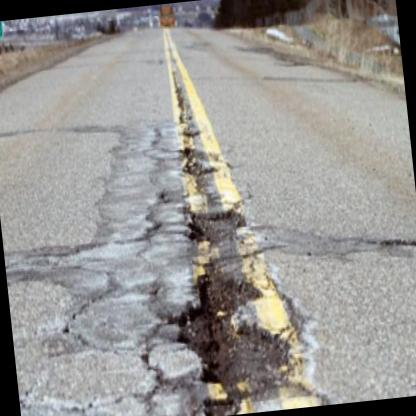pothole: (167, 263, 290, 416), (182, 203, 248, 245)
